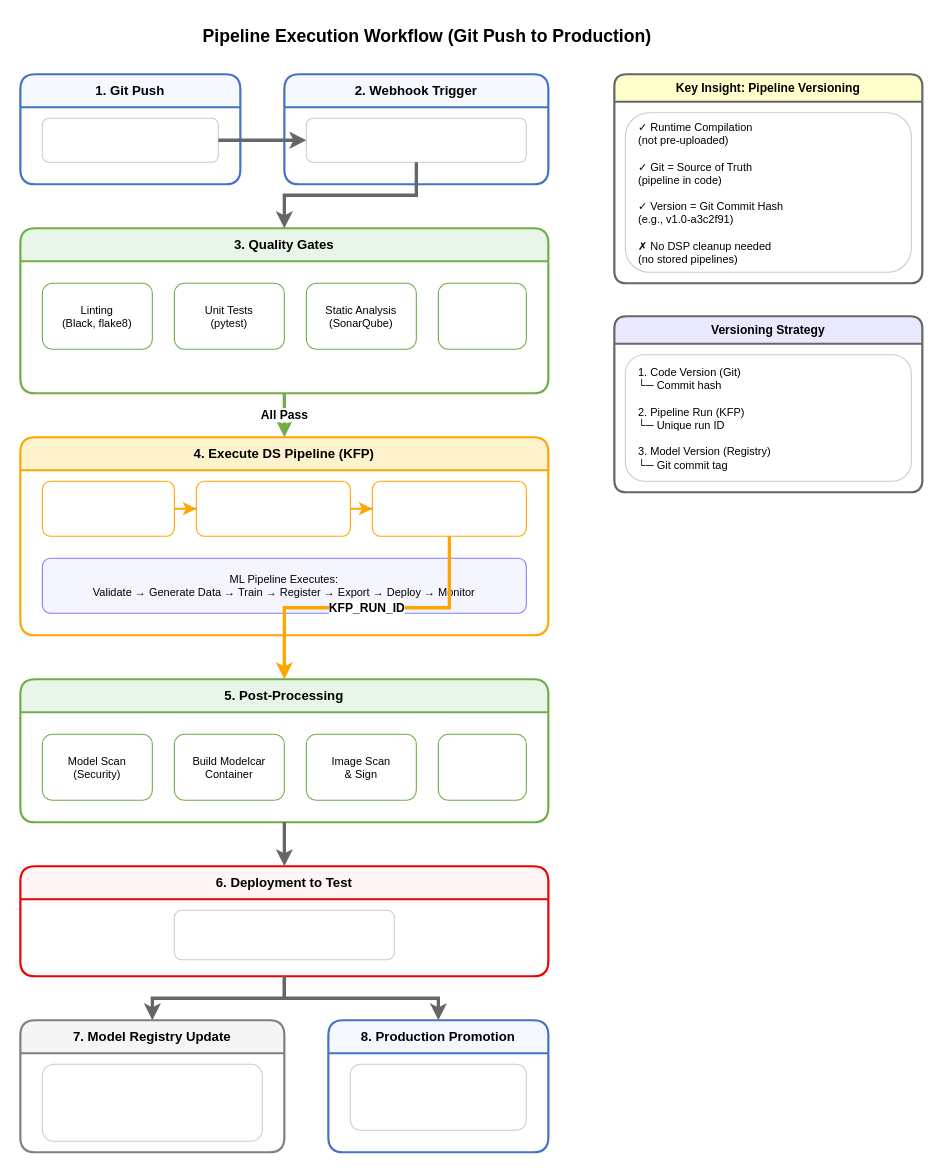
Image size: 942x1172. Some labels were removed from this diagram. Here are the shapes that lost their labels. From the top down, the centre of each, then its label:
the point at 129,139: Developer pushes code to main branch
the point at 415,139: EventListener receives webhook, creates PipelineRun
the point at 481,315: Feature Validation
the point at 107,508: Import pipeline.py from Git repo
the point at 272,508: Inject parameters (commit hash, version)
the point at 448,508: create_run_from _pipeline_func()
the point at 481,766: Generate SBOM
the point at 283,934: Deploy model to test environment Update GitOps repository
the point at 151,1102: ✓ Set deployment=test on NEW version ✗ Clear deployment label from OLD versions
the point at 437,1096: Create Pull Request for production deployment
